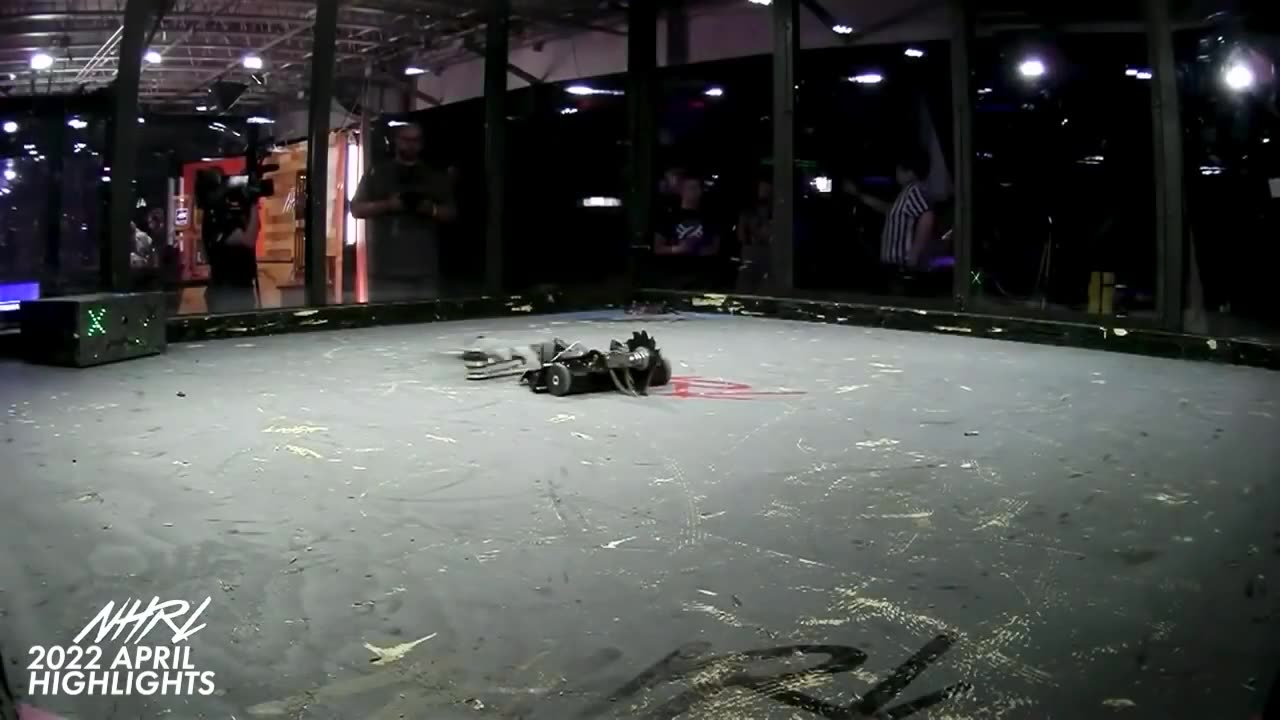combatbot: (527, 333, 669, 396), (460, 340, 544, 380), (627, 302, 677, 316)
housebot: (18, 294, 167, 367)
